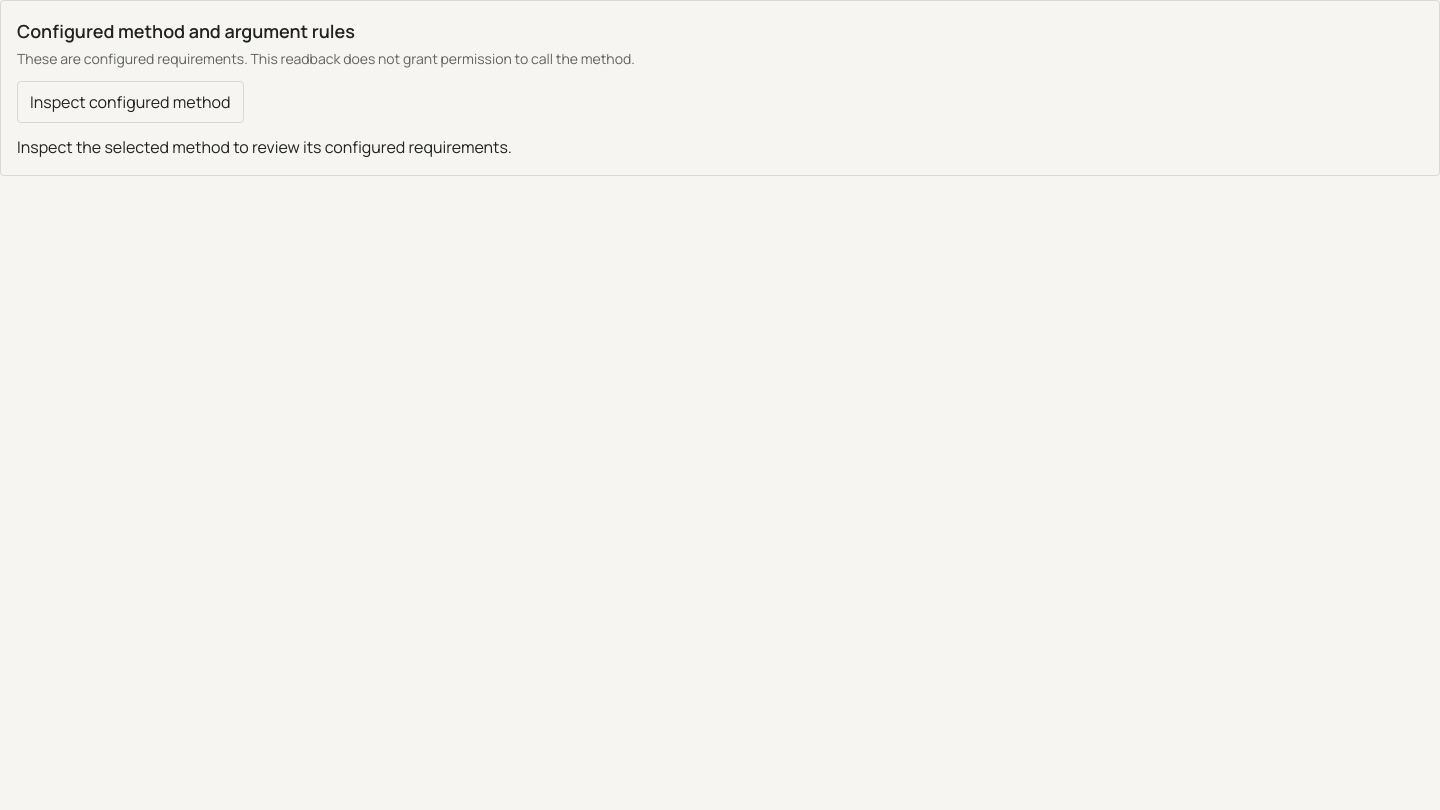
Test: shows a READ policy with no attached argument rules without implying access
This screenshot has width=1440, height=810.
Click the button "Inspect configured method" at x=130, y=102, box [17,81,244,123]
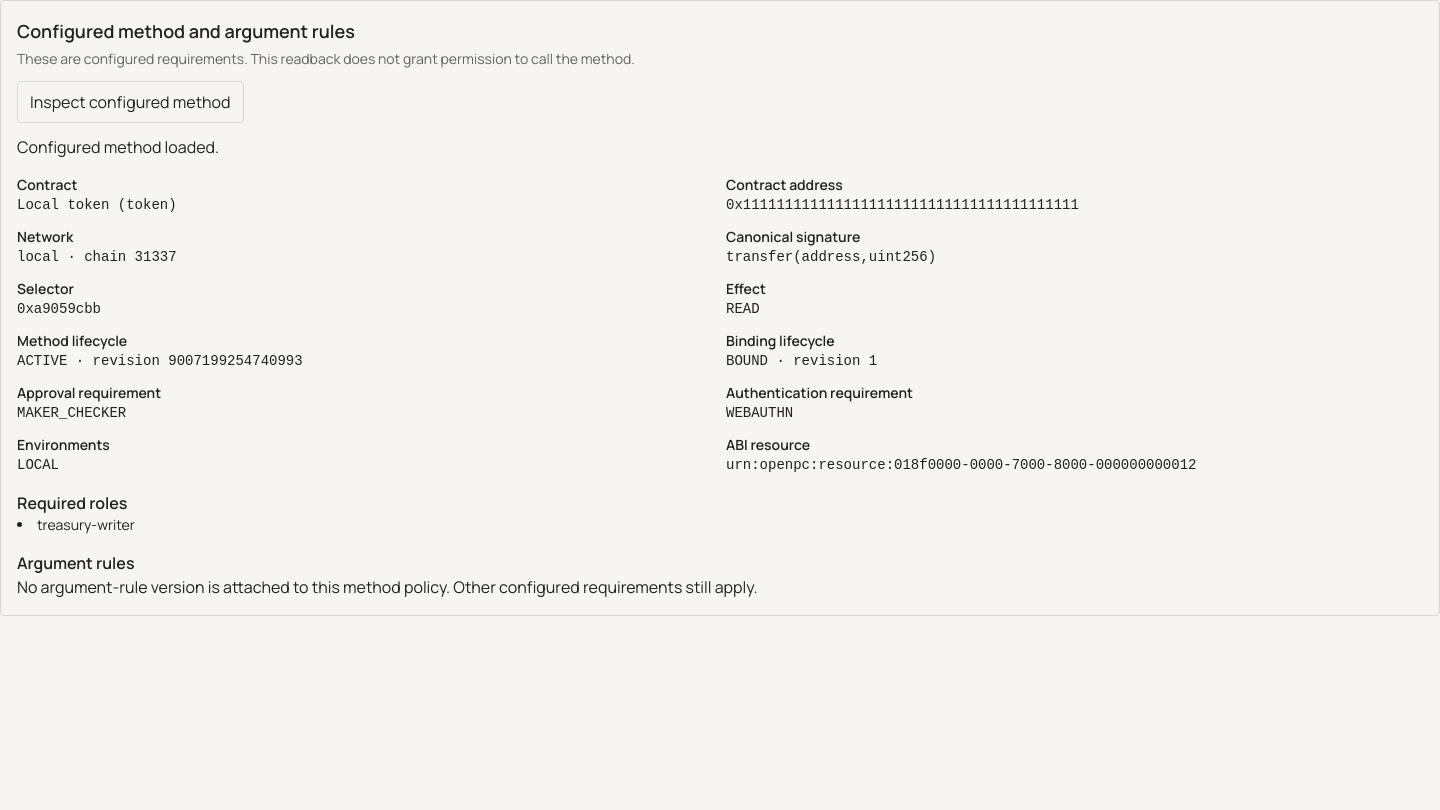
Check: the text "READ" is shown, box [726,301,760,317]
Check: the text "No argument-rule version is attached" is shown, box [17,576,758,598]
